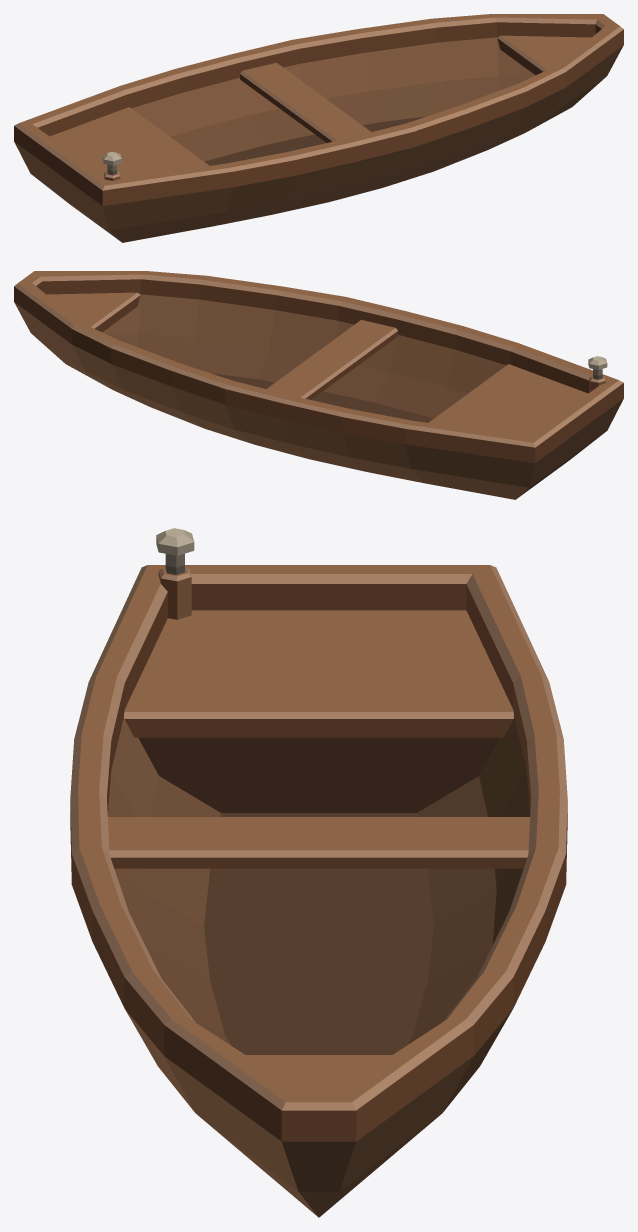
File: boat.fbx
3 renders of one model, top to bottom at view 1: azimuth 30°, elevation 25°; view 2: azimuth 150°, elevation 25°; view 3: azimuth 270°, elevation 25°, orthographic. The views are drawn at different scales.
Parts seen in each view (by area): view 1: boat; view 2: boat; view 3: boat.
Boxes of the visible parts, x1,y1,x2,y2 form: boat: (14,14,623,242); boat: (14,271,623,499); boat: (70,528,567,1217).
Bounding box in the file's own units: 541 × 93.41 × 209.
